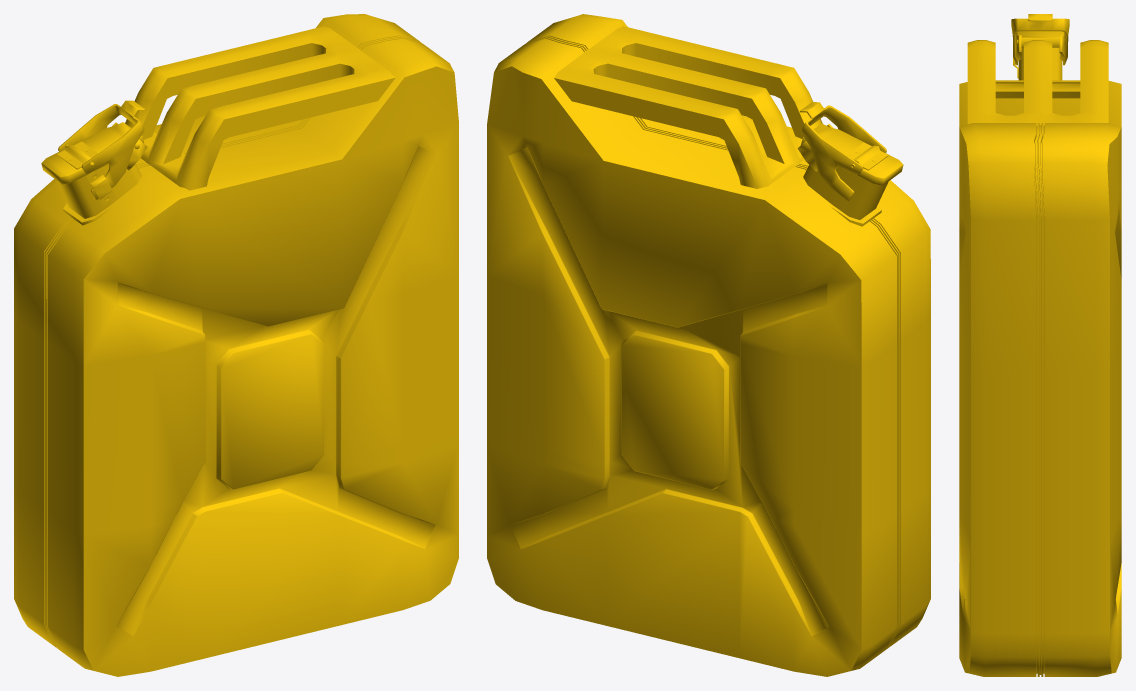
Rendered from fuelcan2.obj.
3 renders of one model, left to right at view 1: azimuth 30°, elevation 25°; view 2: azimuth 150°, elevation 25°; view 3: azimuth 270°, elevation 25°, orthographic.
Parts seen in each view (by area): view 1: polymsh; view 2: polymsh; view 3: polymsh.
Boxes of the visible parts, x1,y1,x2,y2 form: polymsh: (14, 14, 458, 676); polymsh: (487, 14, 930, 676); polymsh: (959, 14, 1121, 676).
Size of the model in its own units: 6.23 by 8.42 by 2.31.
